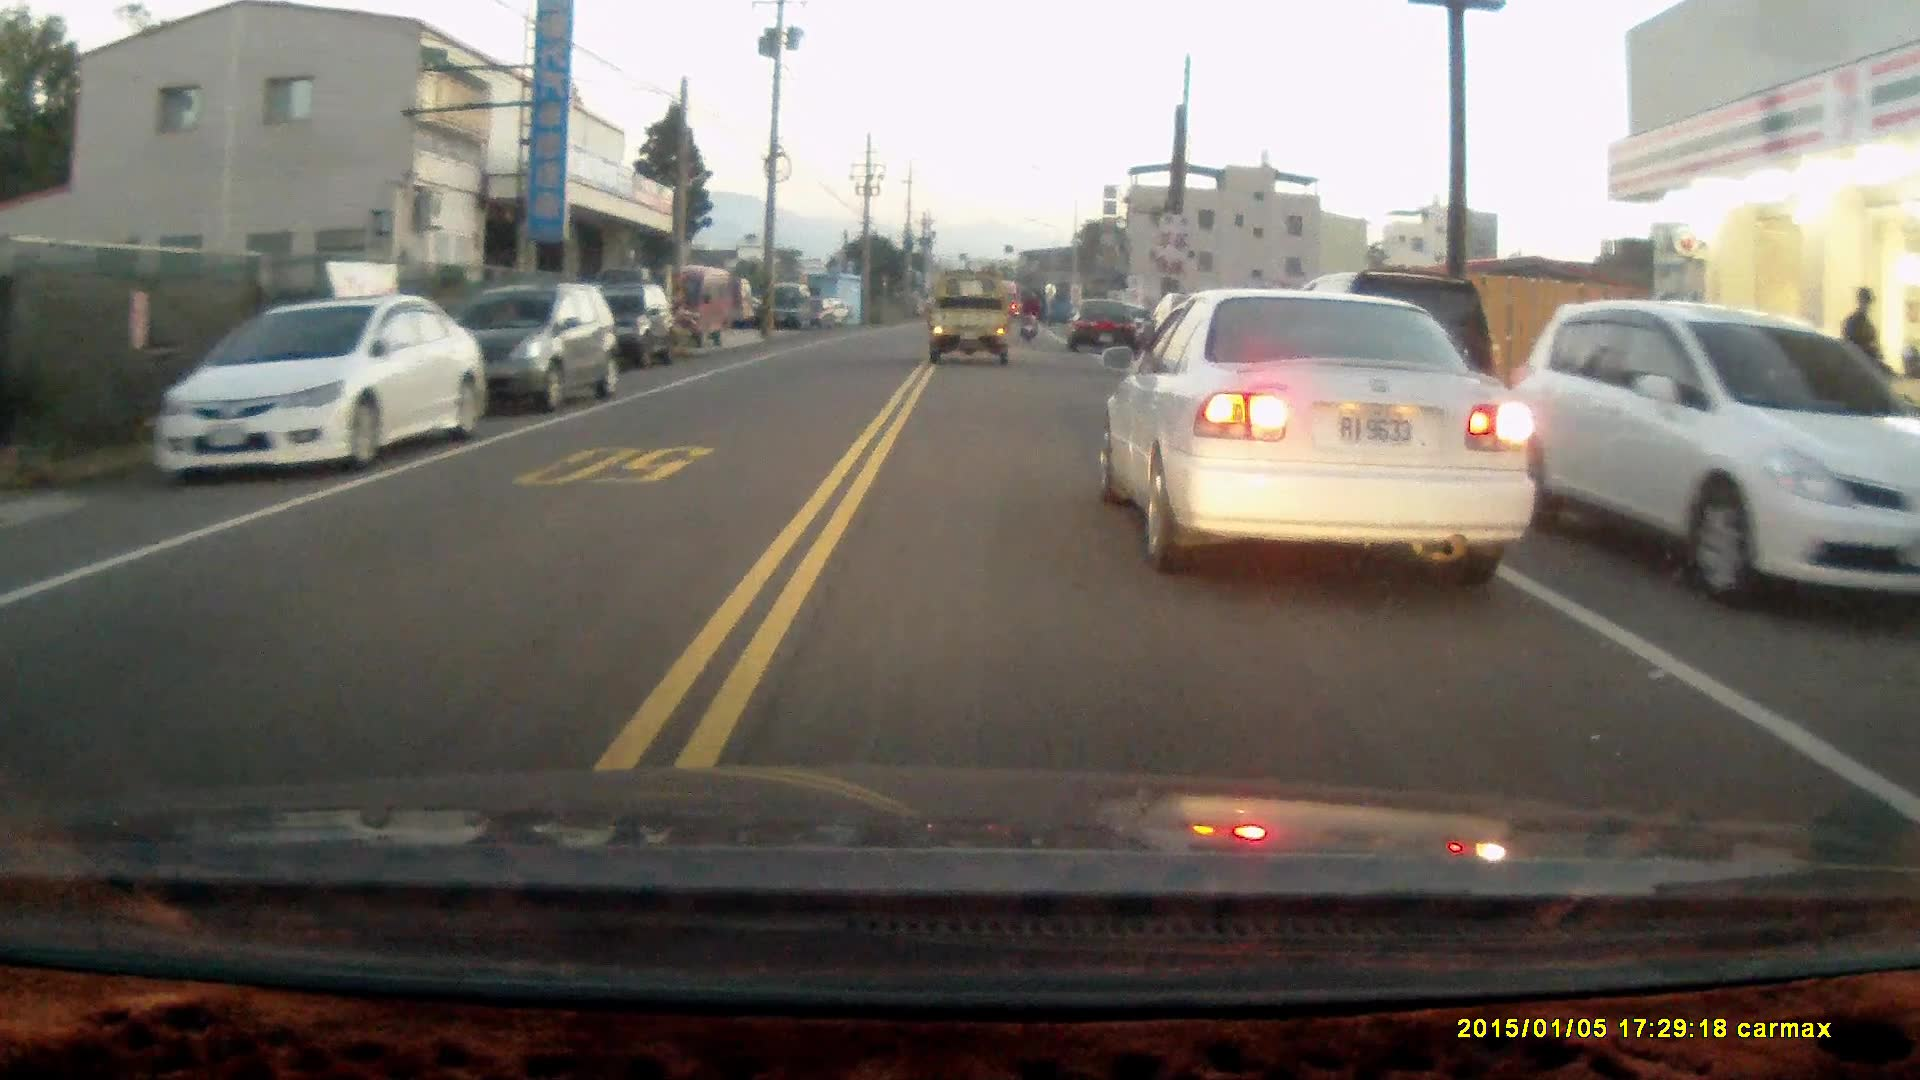pedestrian: (1840, 283, 1880, 390)
rider: (1015, 291, 1042, 339)
vehicle: (1104, 288, 1538, 580), (1512, 299, 1920, 610), (151, 294, 494, 477), (1293, 270, 1504, 485), (417, 280, 617, 412), (930, 270, 1017, 368), (585, 284, 682, 370), (648, 263, 747, 345), (1069, 297, 1147, 358)
